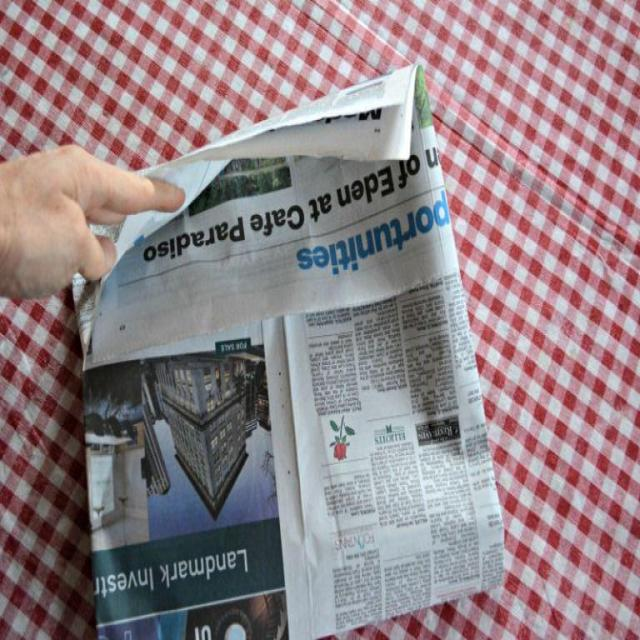paper: (71, 59, 507, 640)
